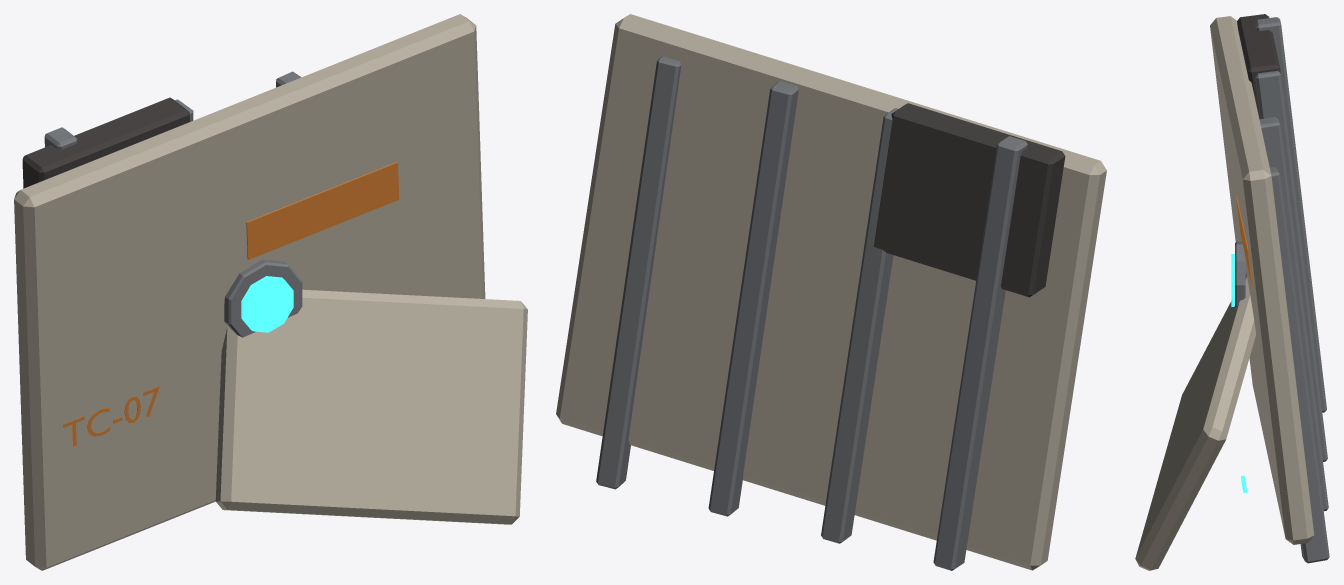
File: TC_PROP_WreckBarricade_V1.gltf
3 renders of one model, left to right at view 1: azimuth 30°, elevation 25°; view 2: azimuth 150°, elevation 25°; view 3: azimuth 270°, elevation 25°, orthographic. The views are drawn at different scales.
Visible parts, largest first — view 1: TC_Wreck_PlateMain, TC_Wreck_PlateBent, TC_Wreck_Marking, TC_Wreck_Scorch, TC_Wreck_AnchorRing, TC_Wreck_Anchor, TC_Wreck_Stencil; view 2: TC_Wreck_PlateMain, TC_Wreck_Scorch, TC_Wreck_Rib_2, TC_Wreck_Rib_0, TC_Wreck_Rib_3, TC_Wreck_Rib_1; view 3: TC_Wreck_PlateMain, TC_Wreck_PlateBent, TC_Wreck_Rib_3, TC_Wreck_Rib_1, TC_Wreck_Rib_2, TC_Wreck_Rib_0, TC_Wreck_Scorch, TC_Wreck_Anchor, TC_Wreck_Marking.
Part boxes in pixels (<box>): TC_Wreck_PlateMain: <box>14,14,485,570</box>; TC_Wreck_PlateBent: <box>215,289,527,524</box>; TC_Wreck_Marking: <box>246,162,399,259</box>; TC_Wreck_Scorch: <box>22,97,189,188</box>; TC_Wreck_AnchorRing: <box>241,276,293,332</box>; TC_Wreck_Anchor: <box>224,259,302,337</box>; TC_Wreck_Stencil: <box>63,386,159,446</box>; TC_Wreck_PlateMain: <box>556,14,1106,570</box>; TC_Wreck_Scorch: <box>873,103,1065,297</box>; TC_Wreck_Rib_2: <box>708,81,798,516</box>; TC_Wreck_Rib_0: <box>933,136,1027,570</box>; TC_Wreck_Rib_3: <box>596,56,681,489</box>; TC_Wreck_Rib_1: <box>821,108,898,543</box>; TC_Wreck_PlateMain: <box>1210,16,1314,544</box>; TC_Wreck_PlateBent: <box>1135,273,1256,570</box>; TC_Wreck_Rib_3: <box>1270,167,1329,563</box>; TC_Wreck_Rib_1: <box>1255,70,1327,461</box>; TC_Wreck_Rib_2: <box>1259,117,1328,511</box>; TC_Wreck_Rib_0: <box>1255,17,1326,412</box>; TC_Wreck_Scorch: <box>1237,14,1281,119</box>; TC_Wreck_Anchor: <box>1235,241,1245,308</box>; TC_Wreck_Marking: <box>1236,196,1252,286</box>.
Size of the model in its own units: 2.89 by 2.49 by 1.07.
